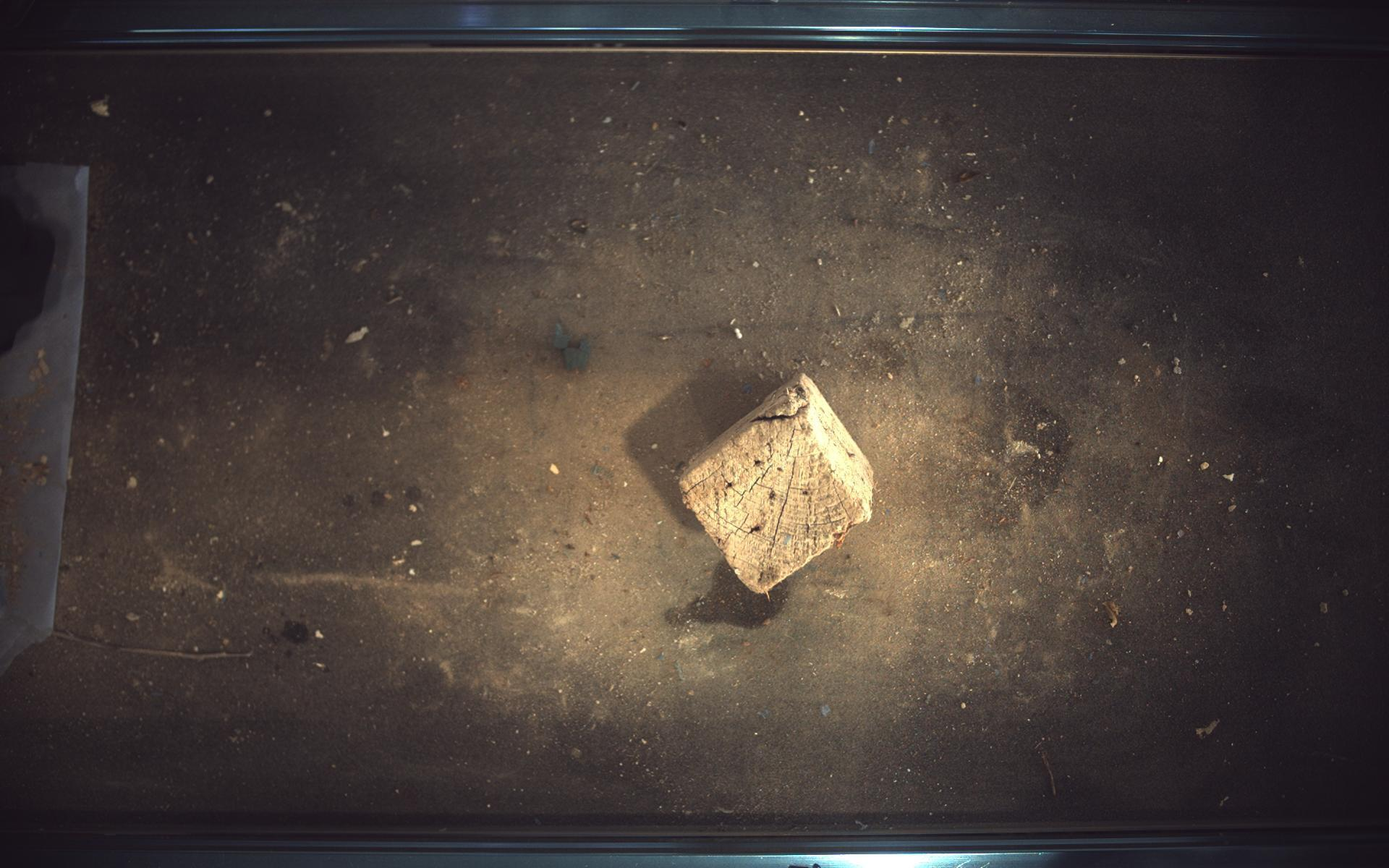wood: (680, 373, 875, 594)
